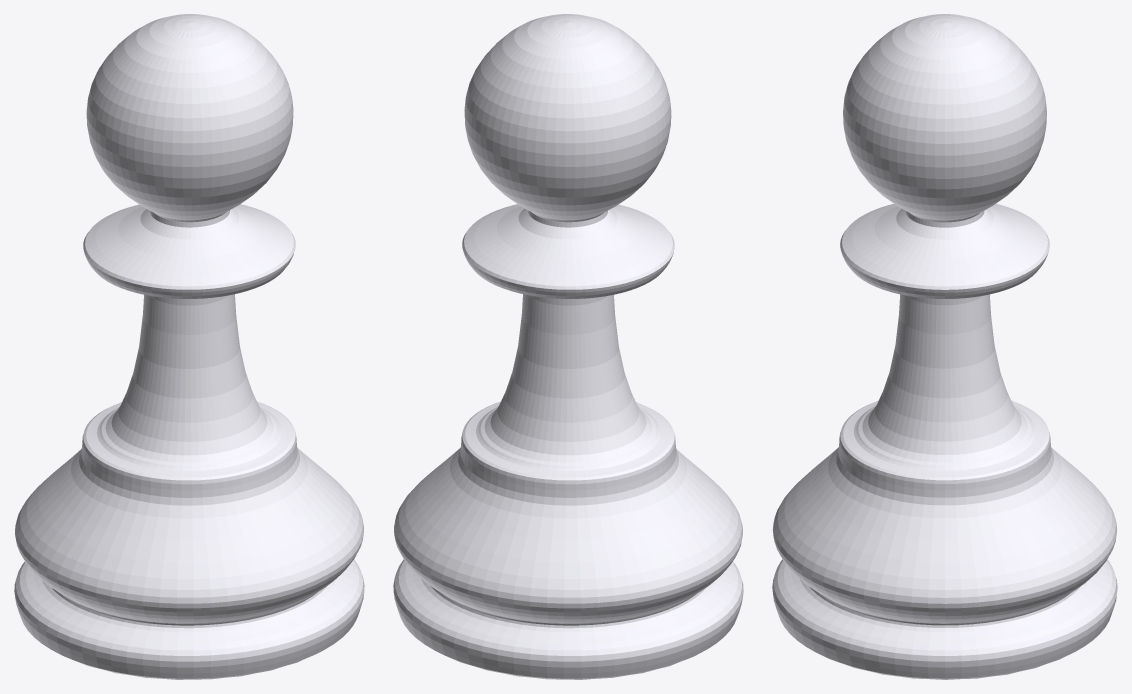
The model's file is pawn.glb.
3 renders of one model, left to right at view 1: azimuth 30°, elevation 25°; view 2: azimuth 150°, elevation 25°; view 3: azimuth 270°, elevation 25°, orthographic.
Parts seen in each view (by area): view 1: pawn_white_8; view 2: pawn_white_8; view 3: pawn_white_8.
Part boxes in pixels (<box>): pawn_white_8: <box>14,14,364,679</box>; pawn_white_8: <box>393,14,743,679</box>; pawn_white_8: <box>772,14,1117,679</box>.
Bounding box in the file's own units: 0.9866 × 1.83 × 0.9699.
1 material, 1 textured.
